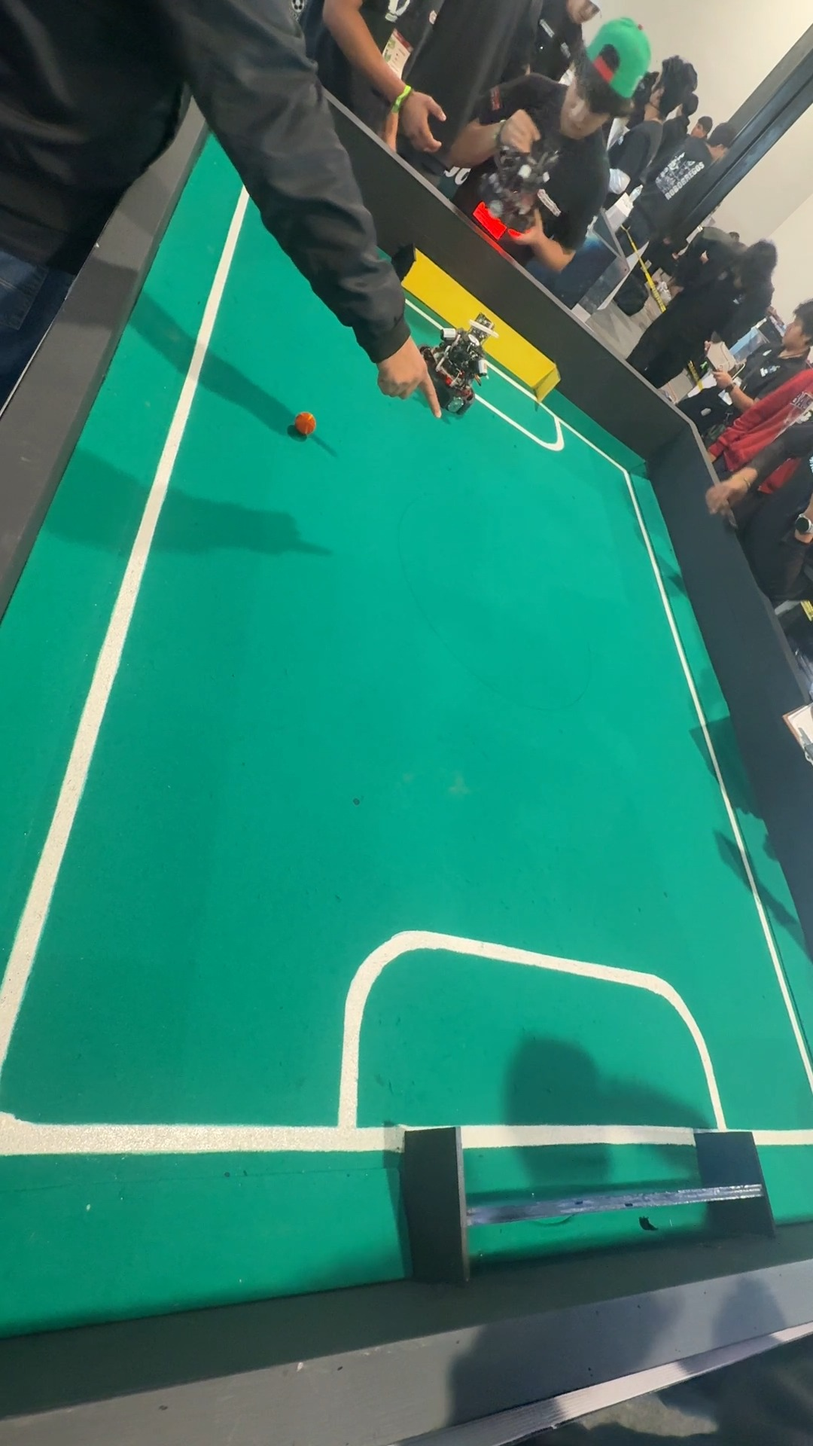Robot: (424, 304, 496, 427)
pelota: (296, 409, 317, 438)
